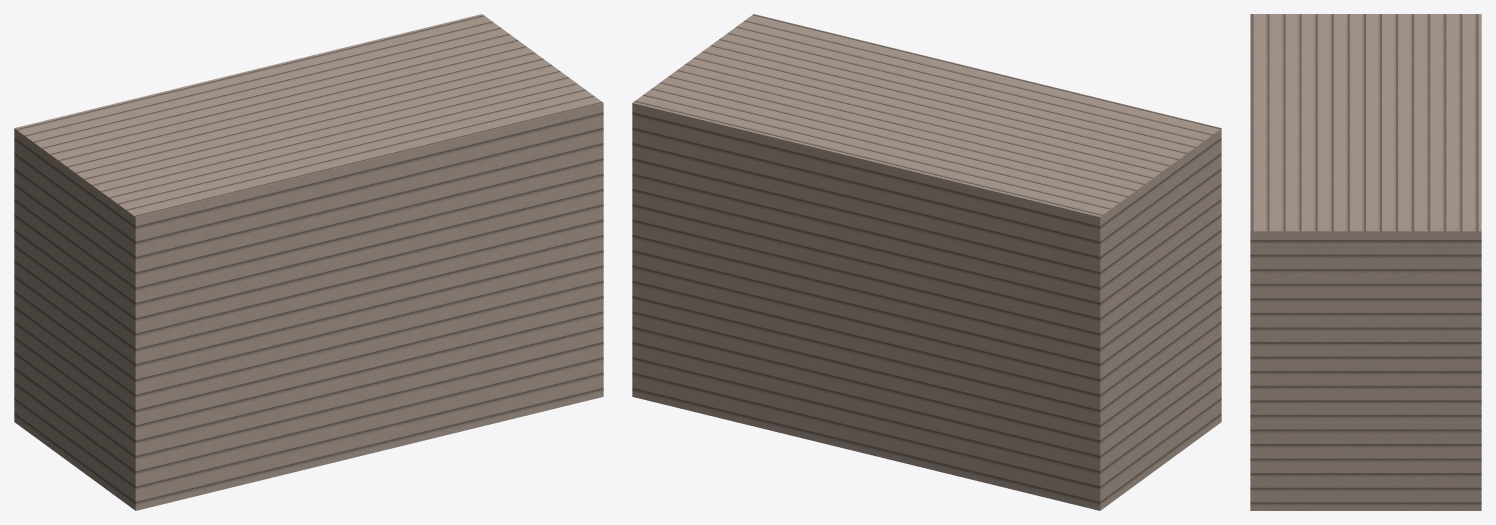
Rendered from swing_set_park_multibay.glb.
3 renders of one model, left to right at view 1: azimuth 30°, elevation 25°; view 2: azimuth 150°, elevation 25°; view 3: azimuth 270°, elevation 25°, orthographic. The views are drawn at different scales.
Visible parts, largest first — view 1: swing_set_park_multibay-col; view 2: swing_set_park_multibay-col; view 3: swing_set_park_multibay-col.
Part boxes in pixels (x1=…): swing_set_park_multibay-col: x1=14, y1=14, x2=603, y2=510; swing_set_park_multibay-col: x1=632, y1=14, x2=1221, y2=510; swing_set_park_multibay-col: x1=1250, y1=14, x2=1481, y2=510.
Size of the model in its own units: 4 by 2.4 by 1.8.
Materials: 1 (1 with a texture image).
